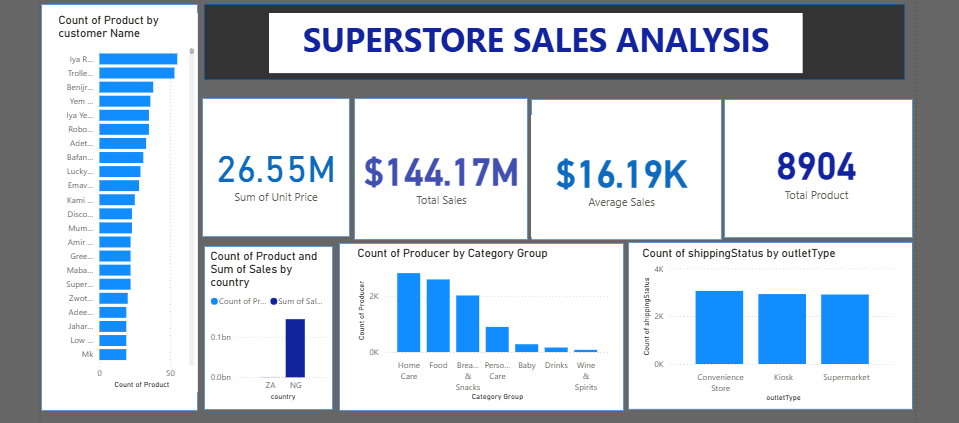

The dashboard page shown, as its layout file describes it:
{"tool":"powerbi","page":{"name":"Page 1","canvas":[1280,720],"ordinal":0},"visuals":[{"type":"shape","box":[458,171.2,254.6,207.8],"z":0},{"type":"shape","box":[999.5,172.7,275.1,203.4],"z":1000},{"type":"shape","box":[717.1,172.7,279.5,206.3],"z":2000},{"type":"card","fields":{"Values":["All Measure.Total Sales"]},"box":[466.8,197.6,238.5,169.8],"z":3000},{"type":"card","fields":{"Values":["All Measure.Average Sales"]},"box":[717.1,196.1,264.9,178.5],"z":4000},{"type":"card","fields":{"Values":["All Measure.Total Product"]},"box":[1018.5,187.3,232.7,174.1],"z":5000},{"type":"shape","box":[238.5,387.8,188.8,240],"z":7000},{"type":"clusteredColumnChart","fields":{"Category":["Orders.Category Group"],"Y":["Orders.Quantity"]},"box":[458,395.1,383.4,222.4],"z":9000},{"type":"shape","box":[858.4,381.3,416.6,245.2],"z":10000},{"type":"columnChart","fields":{"Category":["Orders.outletType"],"Y":["Orders.shippingStatus"]},"box":[875.1,387.8,382,232.7],"z":11000},{"type":"shape","box":[436.1,383.4,417.1,245.9],"z":12000},{"type":"columnChart","fields":{"Category":["Orders.country"],"Y":["Orders.Product","Orders.Sales"]},"box":[242.9,392.2,182.9,226.8],"z":13000},{"type":"shape","box":[238.5,33.7,1025.9,111.2],"z":15000},{"type":"shape","box":[235.6,171.2,216.6,203.4],"z":15001},{"type":"columnChart","fields":{"Category":["Orders.Category Group"],"Y":["Orders.Producer"]},"box":[458,387.8,379,231.2],"z":15002},{"type":"card","fields":{"Values":["Orders.Unit Price"]},"box":[242.9,187.3,202,181.5],"z":15003},{"type":"shape","box":[0,33.7,229.8,620.5],"z":15004},{"type":"barChart","fields":{"Category":["Orders.customer Name"],"Y":["Orders.Product"]},"box":[20.5,46.8,209.3,554.6],"z":15005},{"type":"textbox","box":[333.7,46.8,781.5,87.8],"z":15006}]}

Visuals, with their boxes on the page's 1280x720 design canvas (x1, y1, x2, y2). These are canvas units, not pixel positions in the 959x423 screenshot, which may show the page scaled, cropped or inside an application window:
shape: locate(458, 171, 713, 379)
shape: locate(1000, 173, 1275, 376)
shape: locate(717, 173, 997, 379)
card - All Measure.Total Sales: locate(467, 198, 705, 367)
card - All Measure.Average Sales: locate(717, 196, 982, 375)
card - All Measure.Total Product: locate(1018, 187, 1251, 361)
shape: locate(238, 388, 427, 628)
clusteredColumnChart - Orders.Category Group x Orders.Quantity: locate(458, 395, 841, 618)
shape: locate(858, 381, 1275, 626)
columnChart - Orders.outletType x Orders.shippingStatus: locate(875, 388, 1257, 620)
shape: locate(436, 383, 853, 629)
columnChart - Orders.country x Orders.Product: locate(243, 392, 426, 619)
shape: locate(238, 34, 1264, 145)
shape: locate(236, 171, 452, 375)
columnChart - Orders.Category Group x Orders.Producer: locate(458, 388, 837, 619)
card - Orders.Unit Price: locate(243, 187, 445, 369)
shape: locate(0, 34, 230, 654)
barChart - Orders.customer Name x Orders.Product: locate(20, 47, 230, 601)
textbox: locate(334, 47, 1115, 135)
